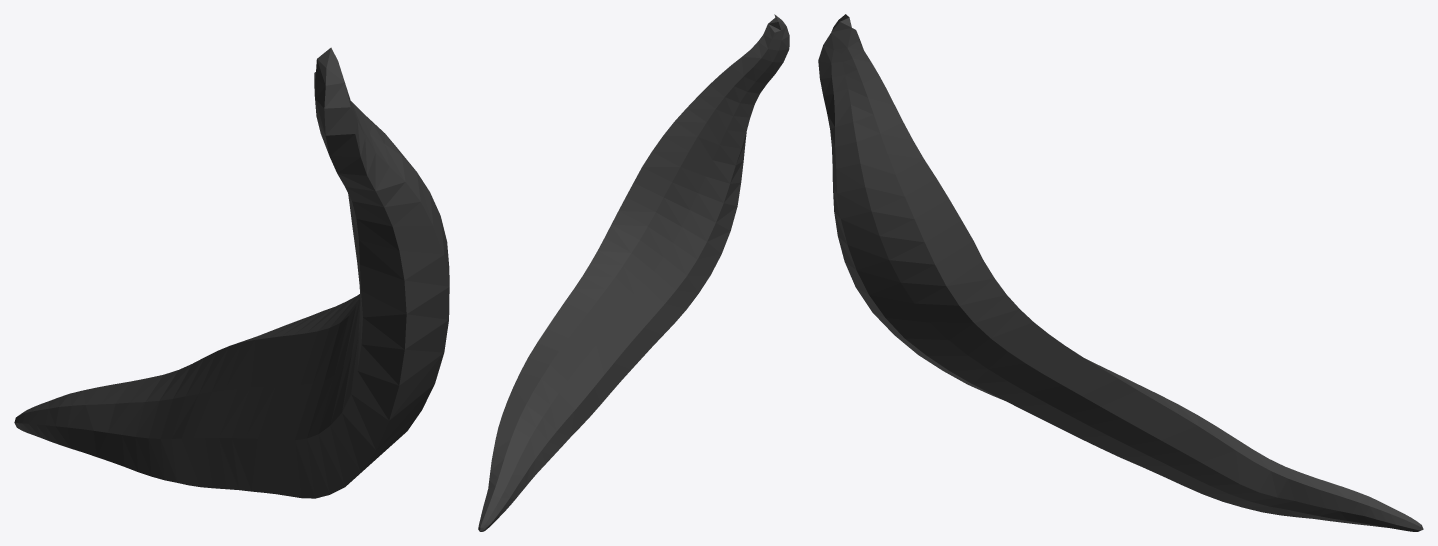
File: Rectus_thoracis.glb
The picture shows the model from 3 angles, left to right: view 1: azimuth 30°, elevation 25°; view 2: azimuth 150°, elevation 25°; view 3: azimuth 270°, elevation 25°; orthographic projection. The views are drawn at different scales.
Visible parts, largest first — view 1: Rectus_thoracis; view 2: Rectus_thoracis; view 3: Rectus_thoracis.
Boxes of the visible parts, left/top/right/bottom form: Rectus_thoracis: left=14, top=47, right=449, bottom=498; Rectus_thoracis: left=478, top=14, right=789, bottom=531; Rectus_thoracis: left=818, top=14, right=1423, bottom=531.
Size of the model in its own units: 0.1528 by 0.4558 by 0.5269.
1 material, 1 textured.
